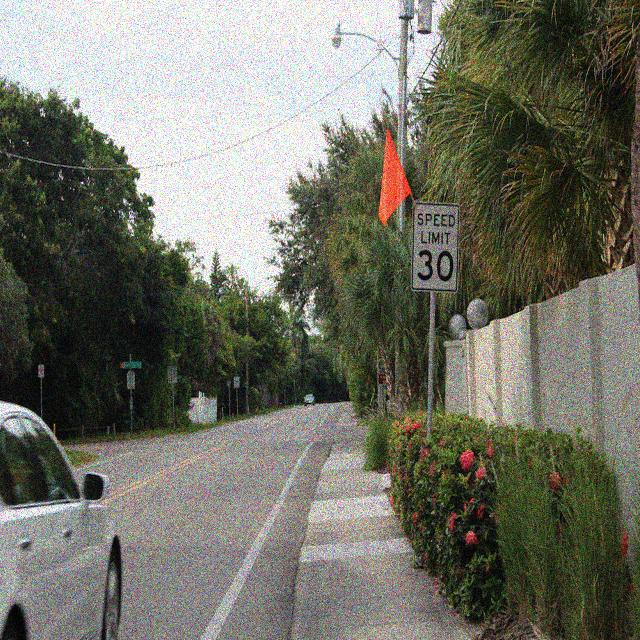speedLimit35: (412, 207, 457, 292)
